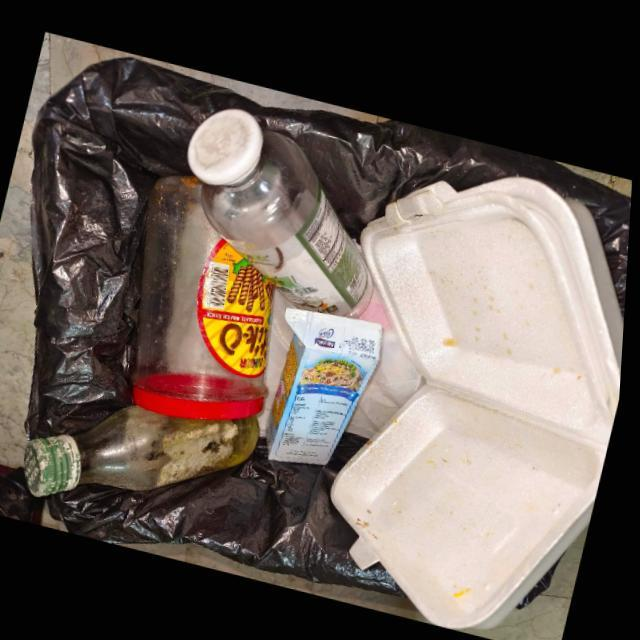glass: (188, 104, 376, 312), (29, 402, 265, 495)
paper: (271, 302, 385, 459)
plastic: (131, 170, 279, 416)
styrofoam: (334, 166, 627, 620)
